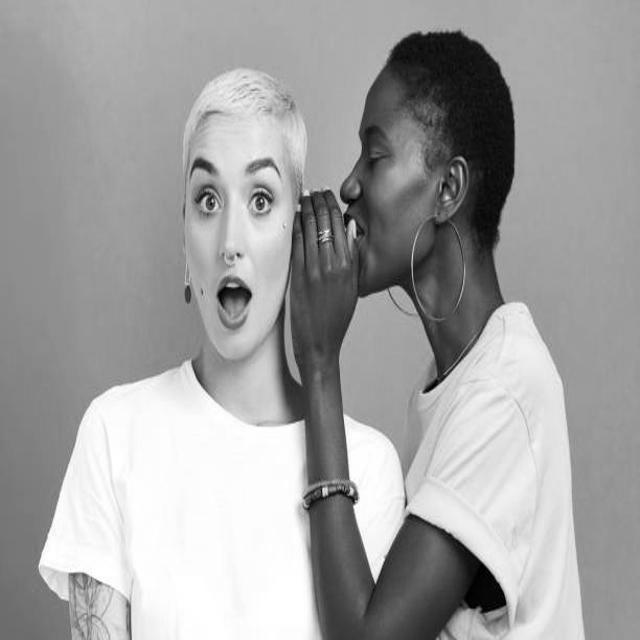Surprised: (182, 118, 293, 363)
